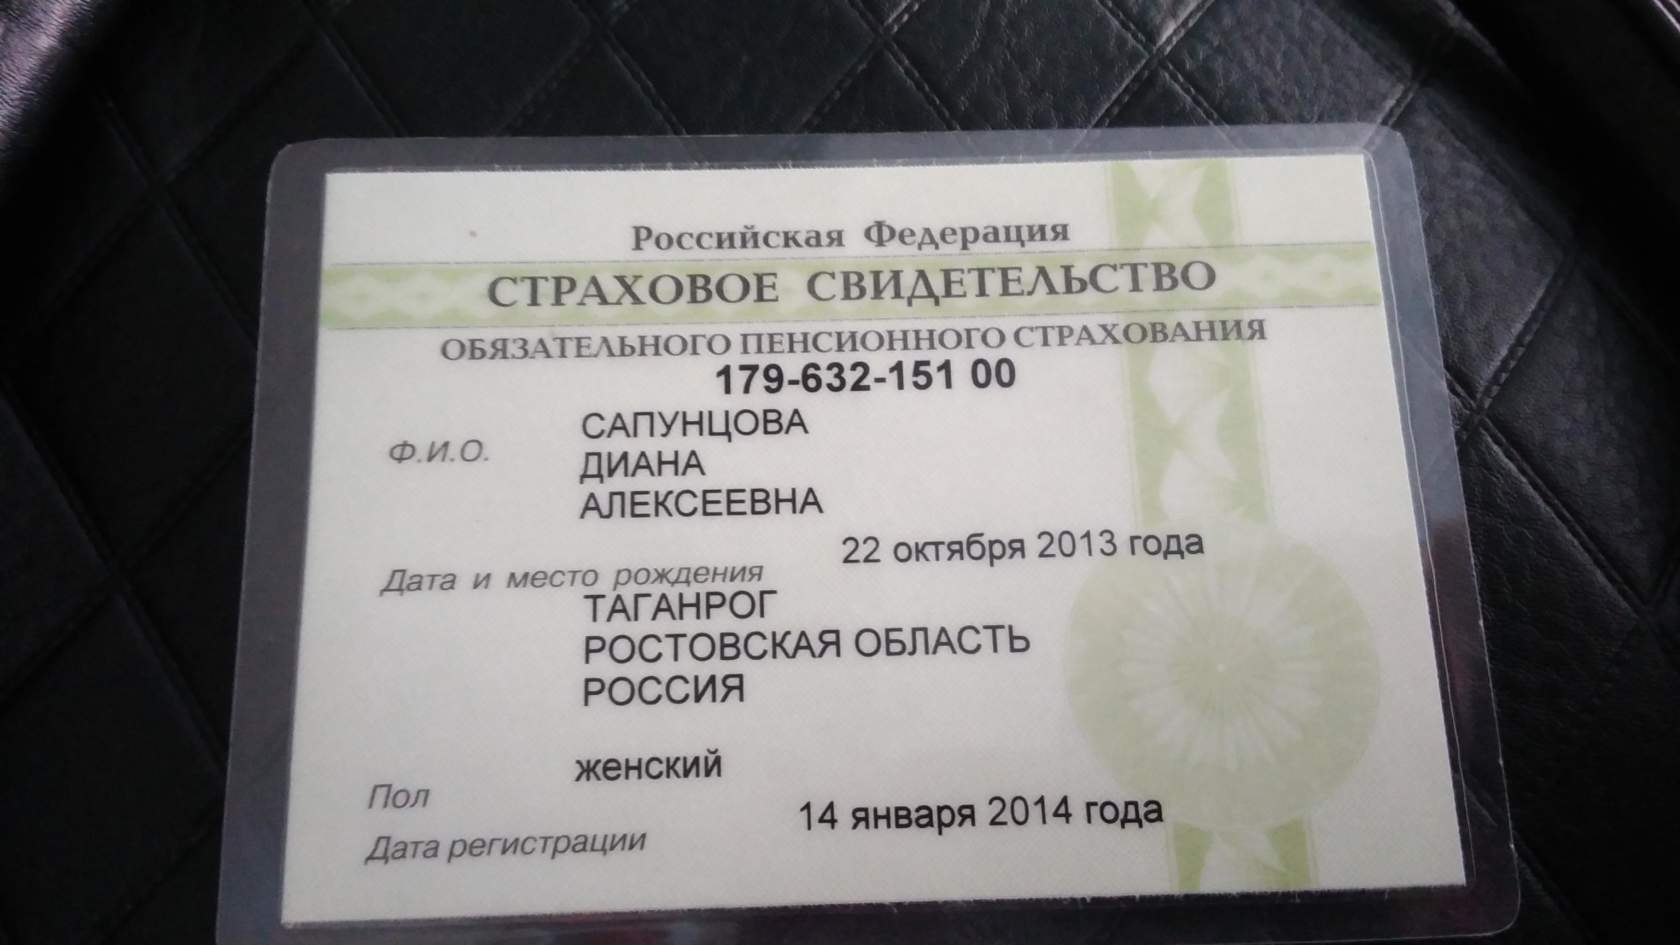text: (573, 584, 1048, 711), (833, 523, 1221, 576), (796, 792, 1171, 837), (553, 473, 847, 523), (706, 355, 1021, 397), (572, 402, 811, 442), (562, 743, 748, 785), (571, 445, 708, 479)
